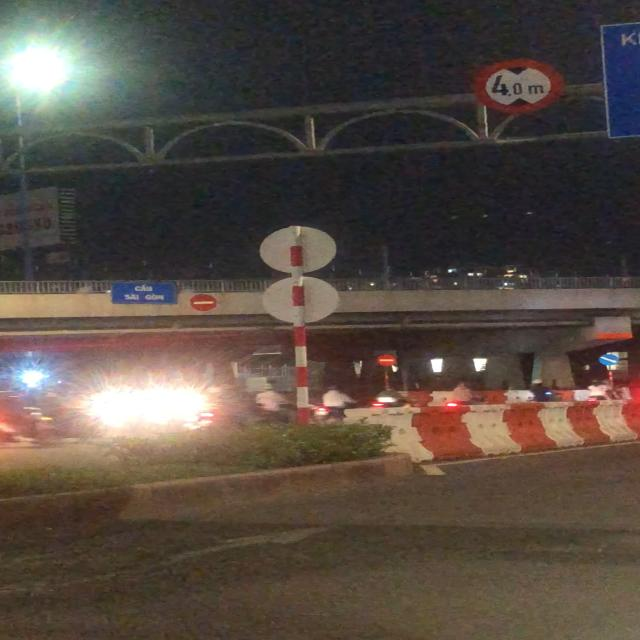Bien bao cam di nguoc chieu: (188, 294, 221, 312), (375, 352, 401, 367)
Bien bao han che chieu cao: (466, 57, 563, 115)
Bien bao huong phai di vong chuong ngai vat: (598, 353, 622, 366)
